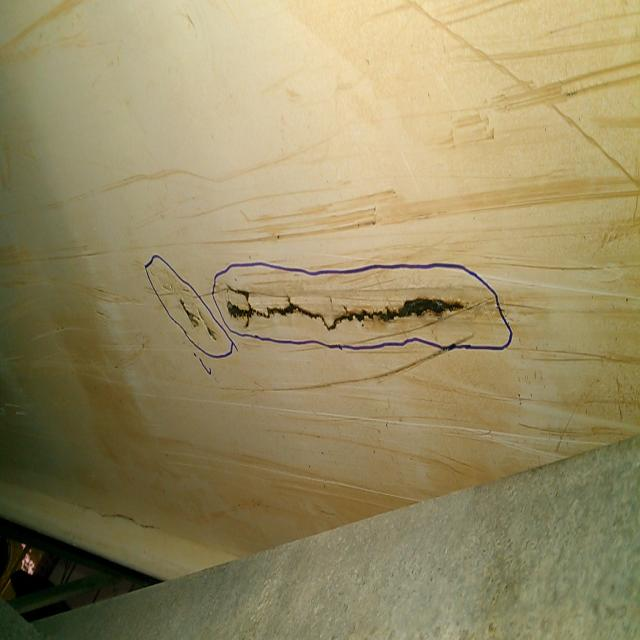Rupture: (225, 286, 467, 334), (177, 295, 221, 345)
